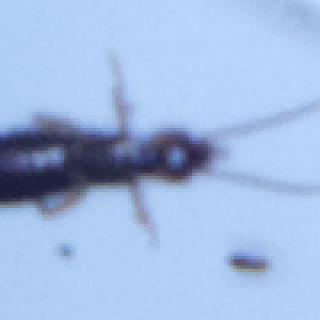earwig: (0, 52, 320, 243)
